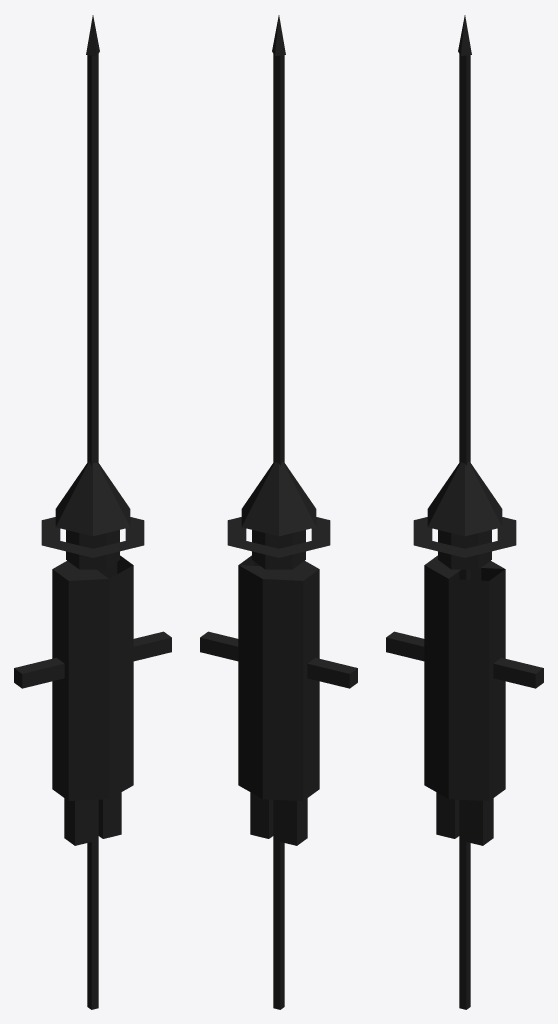
The model's file is pikeman_lowpoly.obj.
3 renders of one model, left to right at view 1: azimuth 30°, elevation 25°; view 2: azimuth 150°, elevation 25°; view 3: azimuth 330°, elevation 25°, orthographic.
Visible parts, largest first — view 1: pikeman_lowpoly; view 2: pikeman_lowpoly; view 3: pikeman_lowpoly.
Boxes of the visible parts, <box> form: pikeman_lowpoly: <box>14,15,171,1009</box>; pikeman_lowpoly: <box>200,15,357,1009</box>; pikeman_lowpoly: <box>386,15,543,1009</box>.
Size of the model in its own units: 0.64 by 4.06 by 0.3811.
Materials: 1 (1 with a texture image).
